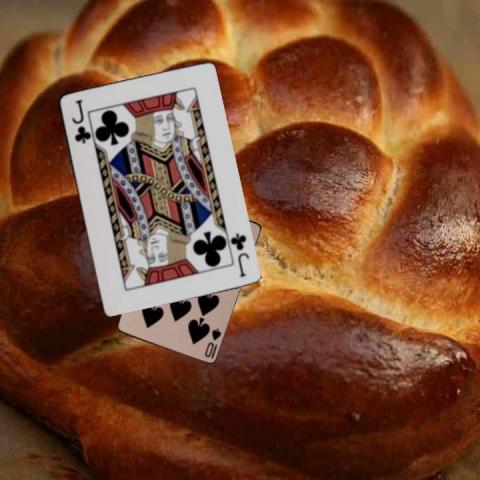10s: (201, 324, 222, 358)
Jc: (226, 230, 250, 278), (68, 96, 91, 144)
